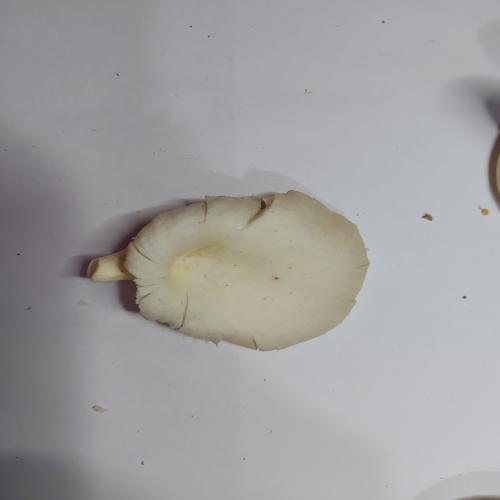Oyster Mushroom: (85, 189, 371, 352)
